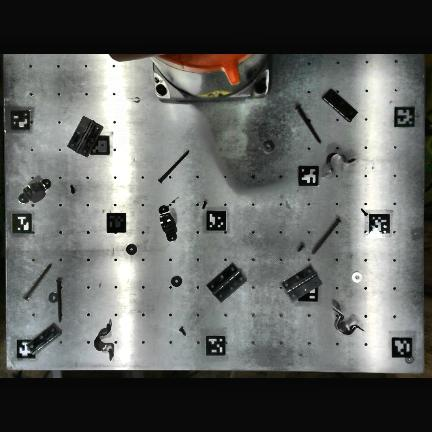black_screw: (361, 207, 367, 215), (179, 326, 185, 334), (297, 243, 303, 250), (70, 184, 74, 192), (203, 201, 207, 206)
clamp: (333, 308, 365, 335), (322, 152, 355, 177), (18, 179, 51, 203), (94, 324, 114, 361), (159, 206, 177, 241)
golden_screw: (162, 160, 181, 179), (314, 231, 331, 252), (55, 280, 62, 322), (37, 263, 51, 283), (309, 129, 318, 142)
hinge: (281, 265, 322, 302), (322, 88, 358, 122), (26, 323, 61, 355), (227, 262, 246, 278), (99, 124, 103, 135)
marker: (394, 107, 415, 128), (12, 213, 32, 234), (370, 214, 390, 234), (299, 166, 319, 186), (206, 337, 226, 357), (10, 111, 29, 132), (207, 210, 226, 231), (392, 338, 412, 357), (17, 339, 36, 359), (107, 213, 126, 232), (91, 136, 109, 155), (298, 287, 318, 302)
washer: (126, 243, 137, 254), (351, 272, 358, 281), (51, 292, 57, 302), (261, 139, 270, 143), (171, 274, 181, 277)
